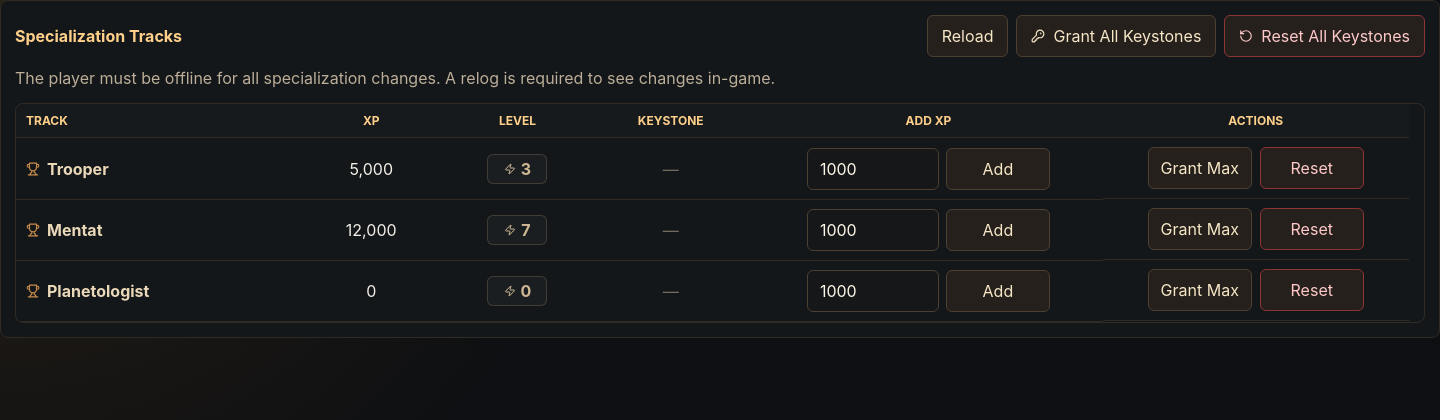
Test: SpecializationTab › Add XP › shows error when XP amount is empty
Expected: the text "Trooper" is shown, [26,159,109,179]
Clear the number field named "XP amount for Trooper": [873, 169] box [807,148,939,190]
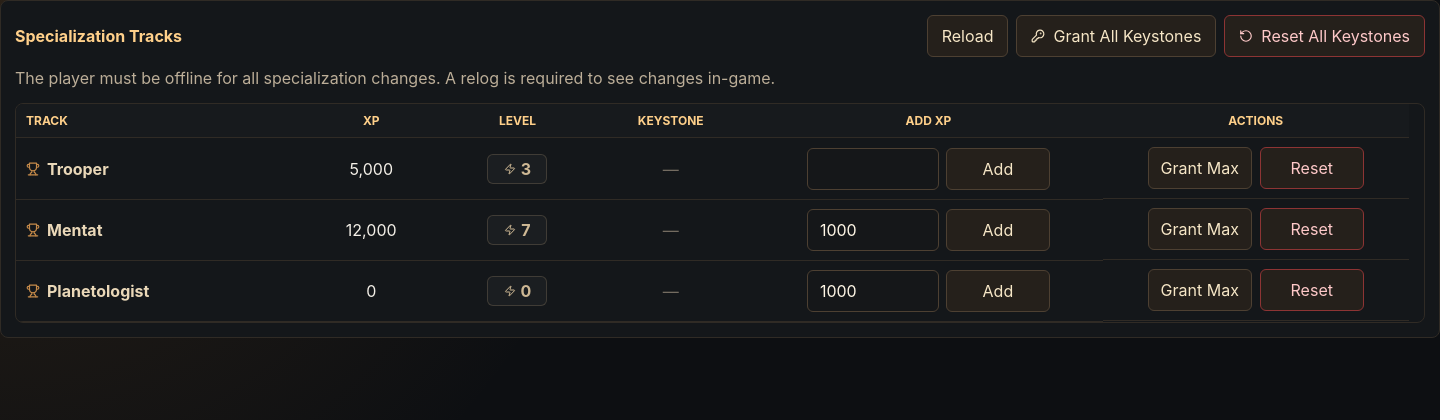
Click the button with aria-label "Add XP to": [998, 169] box [946,148,1050,190]
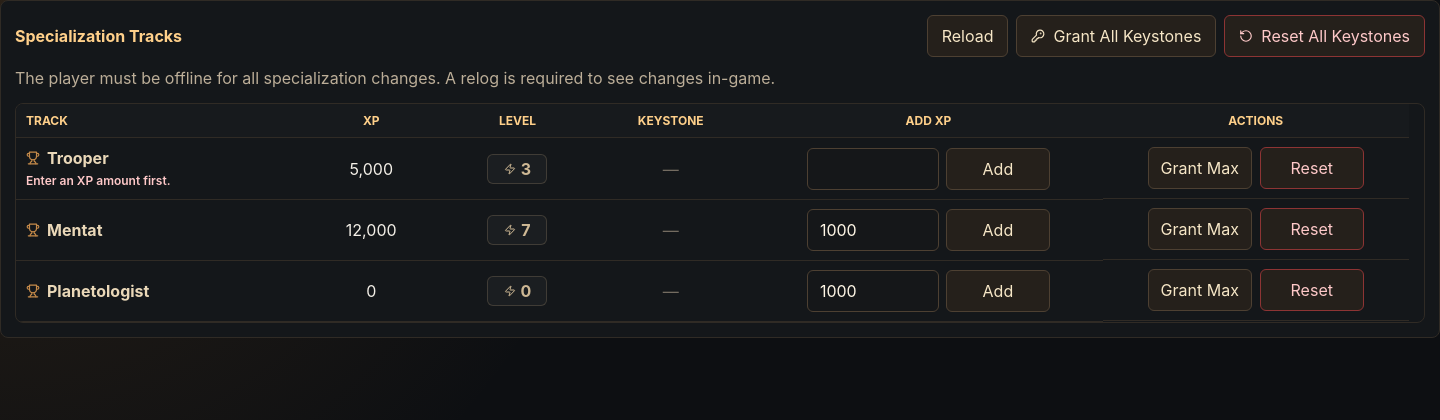
Expected: the text "Enter an XP amount first." is shown, [26,173,170,189]
